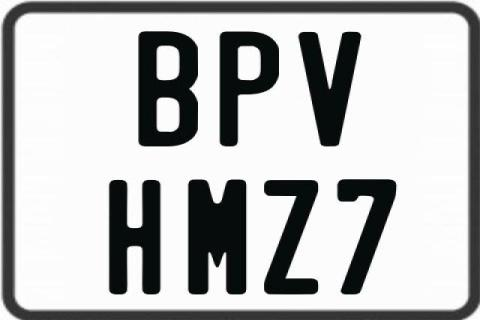0: (334, 178, 395, 294)
B: (139, 31, 203, 150)
H: (106, 180, 164, 294)
M: (188, 177, 248, 293)
P: (219, 29, 282, 145)
V: (295, 31, 360, 145)
Z: (261, 178, 321, 294)
